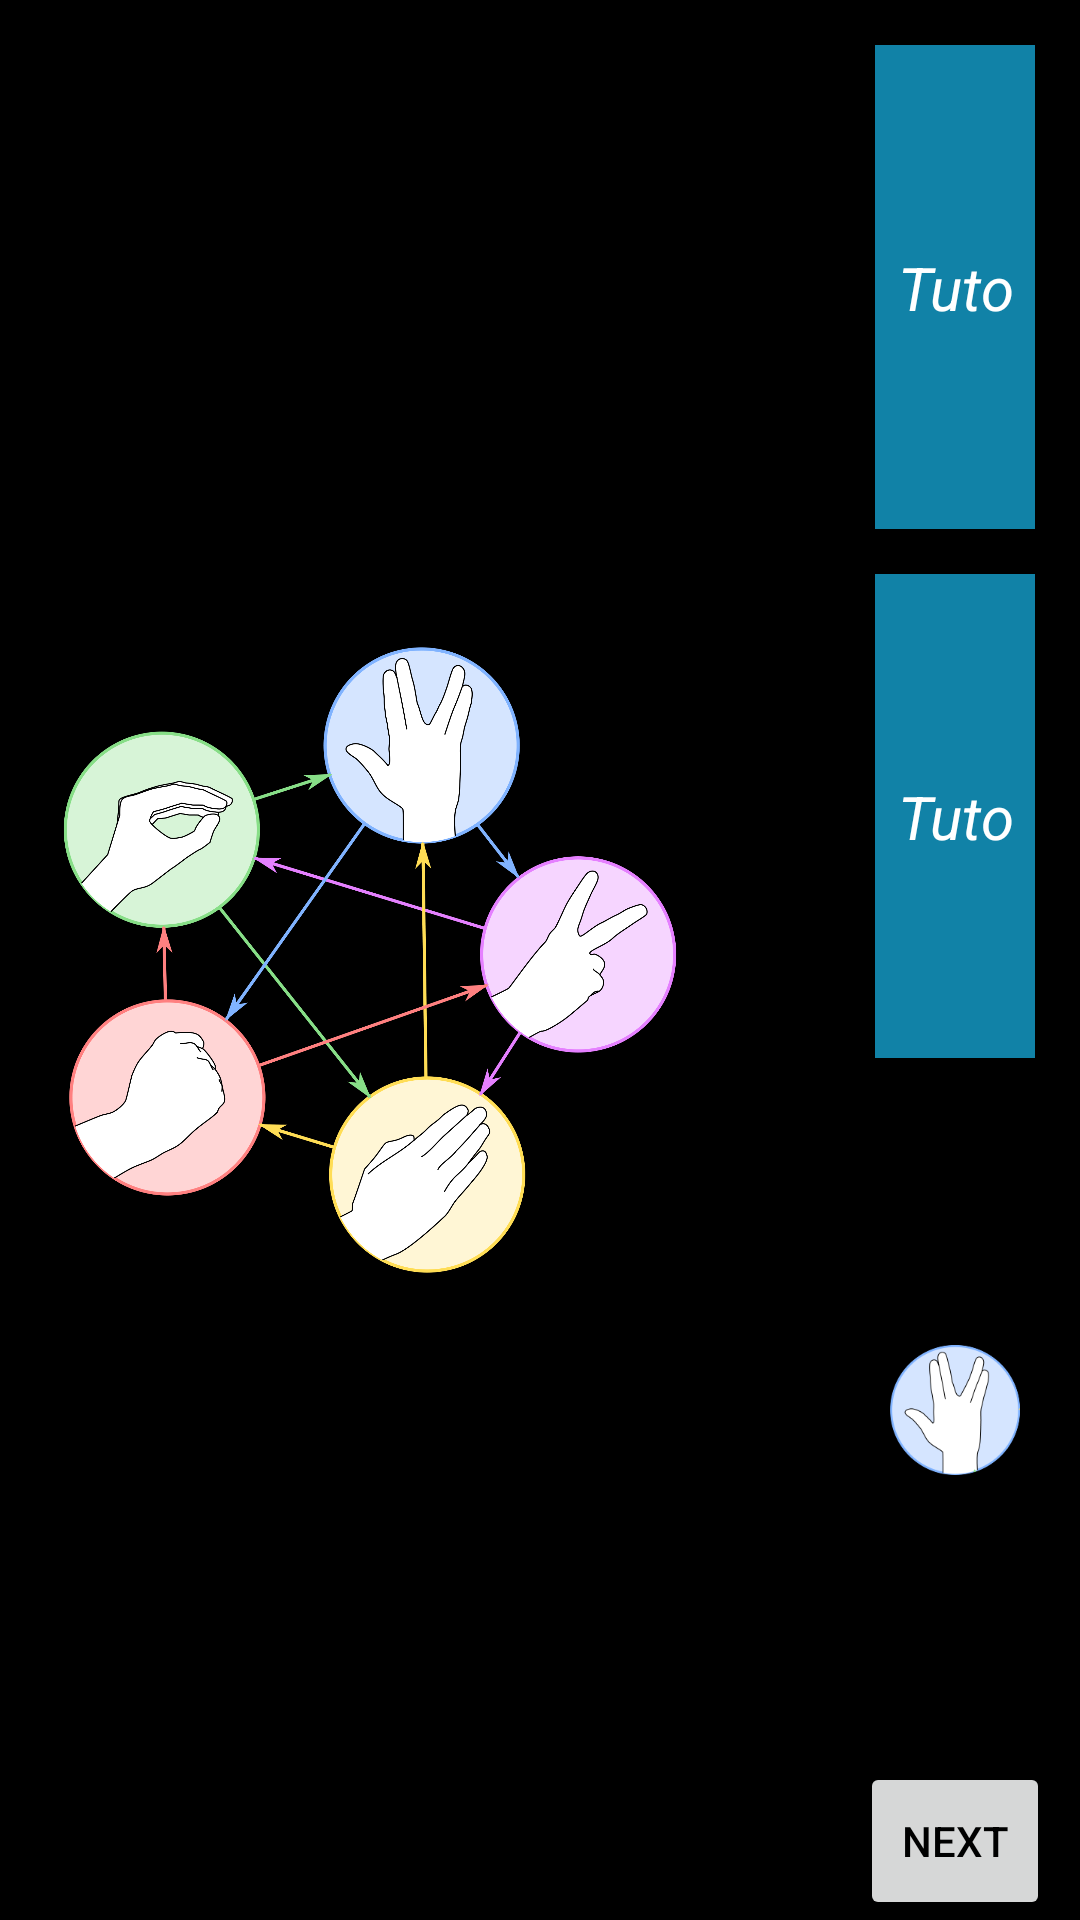

Icon bounding boxes for this 1080 x 1920 phone screenshot, format bbox(x1, y1, x2, y2):
spockt: bbox(890, 1345, 1020, 1475)
